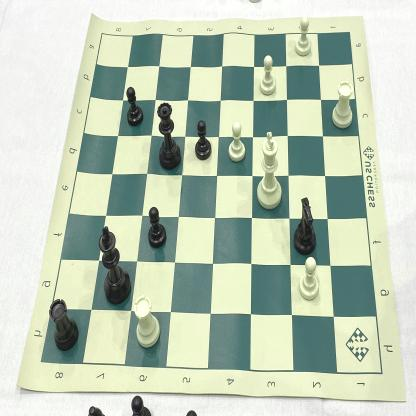black-king: (98, 221, 132, 308)
black-pawn: (146, 204, 170, 252), (193, 119, 213, 162), (125, 84, 144, 128)
black-queen: (154, 99, 184, 173)
black-rook: (49, 296, 80, 353), (292, 196, 318, 255)
white-king: (253, 130, 285, 211)
white-pawn: (298, 256, 322, 302), (227, 119, 248, 164), (294, 15, 315, 58), (258, 54, 278, 99)
white-rook: (133, 294, 162, 353), (330, 79, 358, 131)
